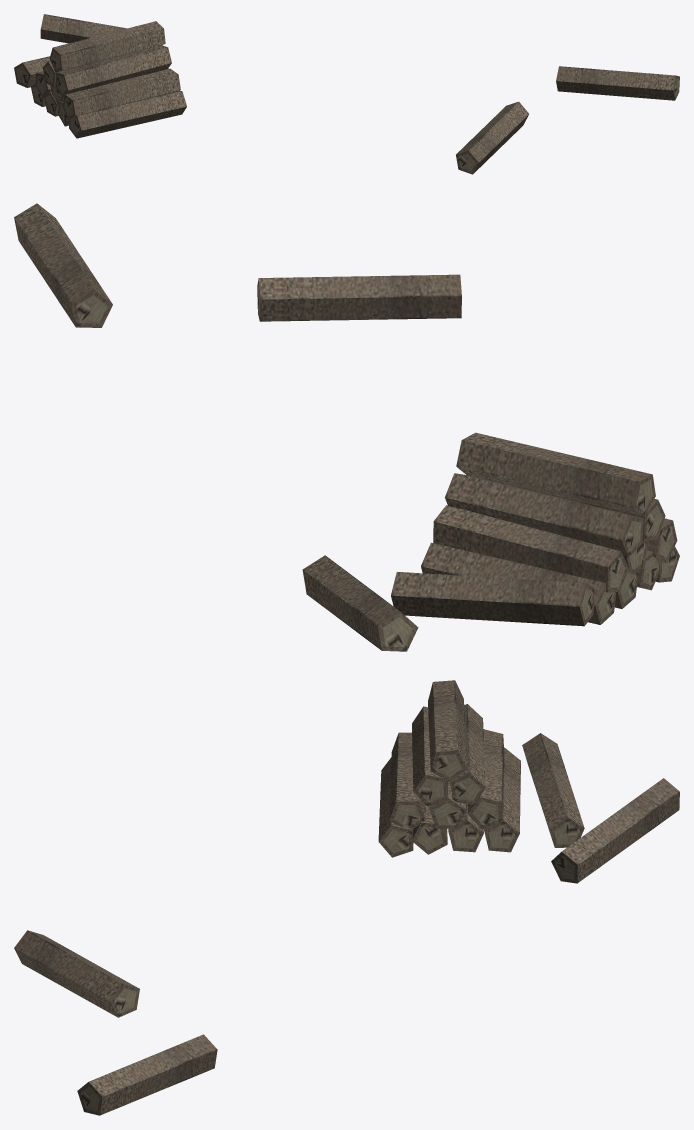
Rendered from wood.obj.
The picture shows the model from 3 angles, top to bottom: view 1: azimuth 30°, elevation 25°; view 2: azimuth 150°, elevation 25°; view 3: azimuth 270°, elevation 25°; orthographic projection. The views are drawn at different scales.
Parts seen in each view (by area): view 1: wood_Cylinder.002; view 2: wood_Cylinder.002; view 3: wood_Cylinder.002.
Boxes of the visible parts, x1,y1,x2,y2 form: wood_Cylinder.002: (14, 14, 679, 174); wood_Cylinder.002: (14, 203, 679, 651); wood_Cylinder.002: (14, 680, 679, 1115).
Bounding box in the file's own units: 7.9 × 1.16 × 6.57.
1 material, 1 textured.
